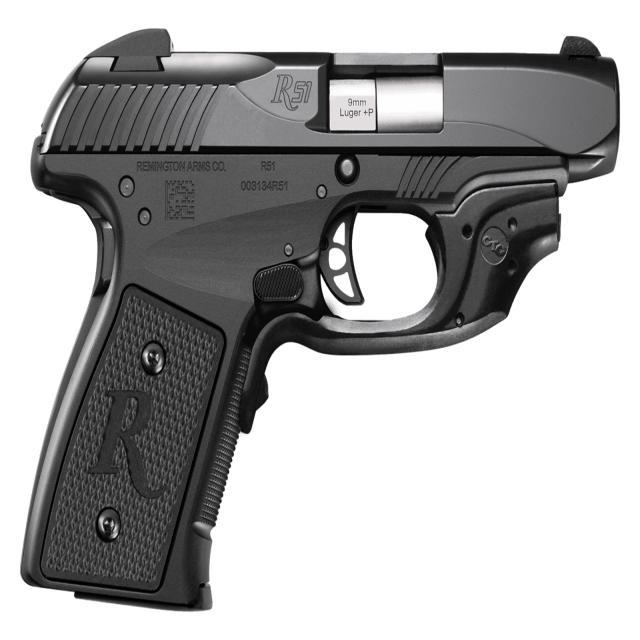Pistol: (19, 6, 640, 621)
